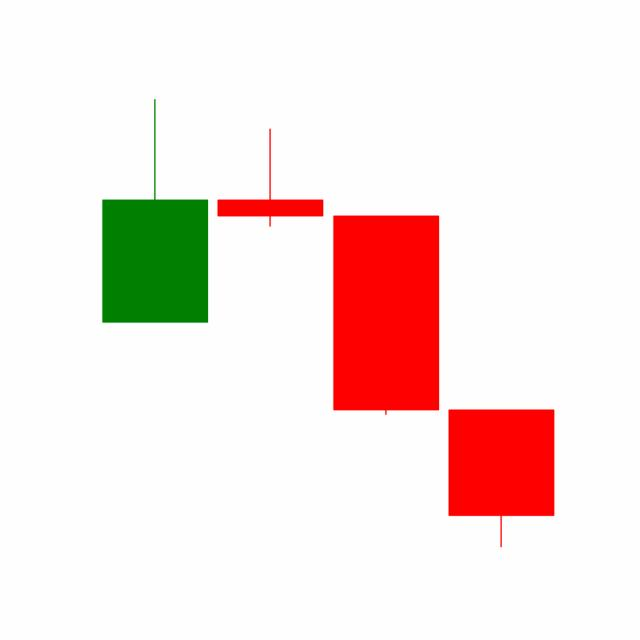Marubozu: (328, 212, 444, 416)
